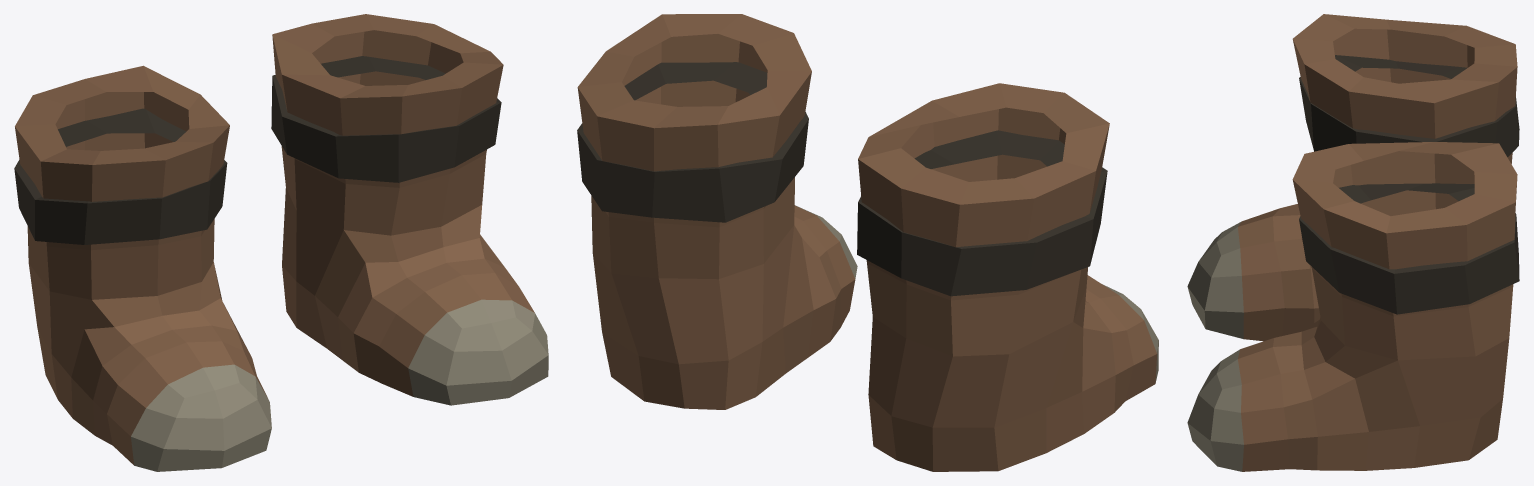
The model's file is Icon.fbx.
3 renders of one model, left to right at view 1: azimuth 30°, elevation 25°; view 2: azimuth 150°, elevation 25°; view 3: azimuth 270°, elevation 25°, orthographic. The views are drawn at different scales.
Parts seen in each view (by area): view 1: Shoe_1; view 2: Shoe_1; view 3: Shoe_1.
Part boxes in pixels (box(x1,y1,x2,y2)): Shoe_1: box(14, 14, 548, 471); Shoe_1: box(577, 14, 1158, 471); Shoe_1: box(1187, 14, 1519, 471).
Bounding box in the file's own units: 47.6 × 27.59 × 31.02.
